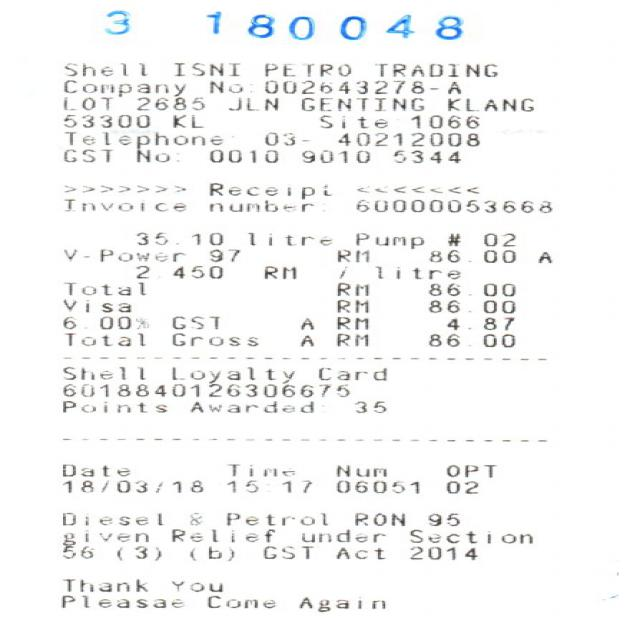text: (60, 378, 347, 396), (63, 131, 220, 161), (353, 199, 550, 212), (264, 80, 458, 93), (60, 78, 183, 96), (334, 132, 476, 146), (60, 479, 201, 492), (170, 367, 292, 382), (375, 61, 496, 76), (207, 183, 328, 198), (60, 357, 143, 378), (301, 96, 421, 110), (60, 532, 146, 551), (406, 529, 530, 542), (61, 247, 182, 260), (60, 594, 181, 606), (63, 198, 183, 210), (170, 528, 272, 542), (60, 510, 160, 524), (188, 400, 310, 411), (223, 512, 325, 525), (261, 61, 348, 76), (295, 596, 382, 611), (59, 399, 164, 411), (60, 113, 148, 127), (132, 264, 220, 278), (208, 198, 310, 210), (445, 97, 531, 111), (427, 248, 512, 262), (427, 298, 512, 312), (170, 331, 255, 345), (63, 61, 145, 75), (334, 478, 416, 492), (300, 528, 382, 542), (372, 265, 458, 278), (427, 282, 512, 295), (427, 333, 512, 346), (59, 577, 144, 590), (65, 281, 143, 295), (65, 331, 143, 345), (246, 232, 330, 244), (354, 233, 421, 248), (408, 544, 475, 559), (406, 114, 476, 128), (134, 95, 202, 109), (152, 230, 220, 244), (61, 298, 129, 312), (60, 462, 128, 476), (318, 114, 385, 128), (208, 148, 275, 162), (391, 148, 458, 162), (172, 61, 238, 75), (296, 332, 365, 345), (298, 149, 366, 162), (444, 316, 511, 329), (203, 595, 272, 607), (318, 367, 384, 379), (226, 463, 292, 475), (60, 95, 110, 109), (114, 544, 159, 559), (352, 512, 402, 525), (260, 545, 310, 558), (60, 148, 109, 161), (442, 464, 494, 476), (188, 546, 232, 560), (170, 315, 217, 328), (334, 464, 384, 476), (332, 546, 382, 558), (97, 315, 142, 328), (261, 131, 305, 144), (228, 97, 275, 109), (169, 580, 220, 591), (480, 231, 512, 245), (262, 264, 294, 278), (335, 281, 367, 295), (335, 298, 367, 312), (335, 315, 367, 329), (169, 113, 200, 127), (424, 512, 457, 525), (60, 544, 90, 558), (223, 478, 255, 491), (208, 248, 238, 261), (279, 479, 309, 492), (208, 80, 240, 92), (335, 249, 367, 261), (444, 480, 475, 492), (351, 400, 384, 411), (445, 231, 458, 245), (298, 316, 311, 329), (534, 250, 548, 262), (60, 316, 73, 328), (152, 152, 167, 161), (188, 512, 199, 524), (335, 269, 342, 277)
